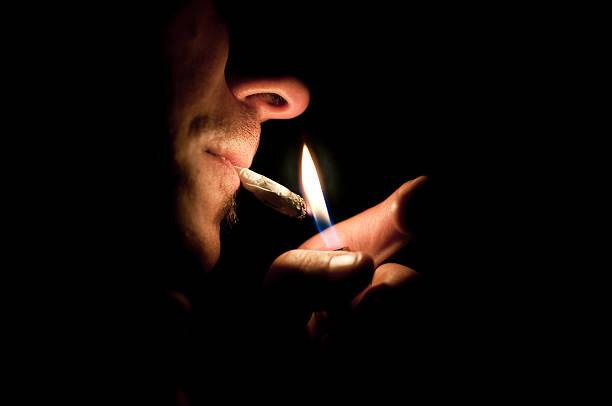Fire: (294, 144, 348, 248)
